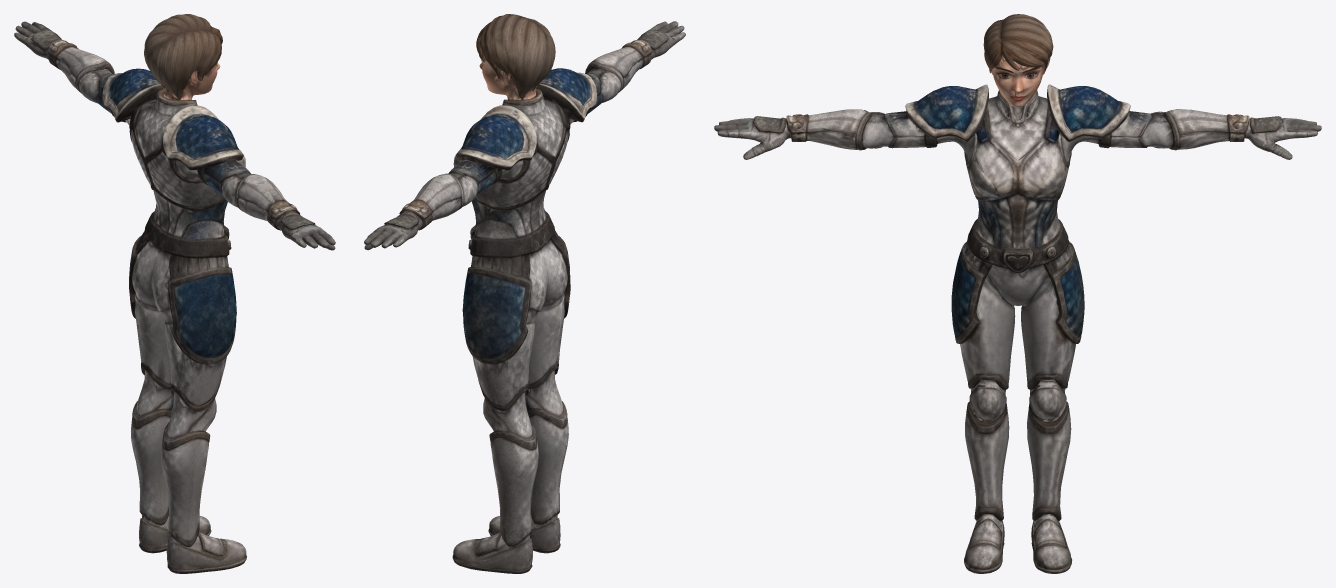
The model's file is keepers-civilian.glb.
The picture shows the model from 3 angles, left to right: view 1: azimuth 30°, elevation 25°; view 2: azimuth 150°, elevation 25°; view 3: azimuth 270°, elevation 25°; orthographic projection.
Bounding box in the file's own units: 0.1777 × 0.9999 × 1.03.
Materials: 1 (1 with a texture image).
